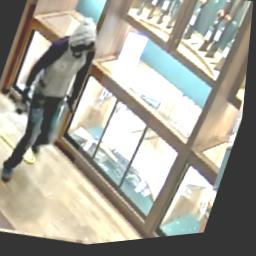nonspitting: (0, 0, 126, 209)
